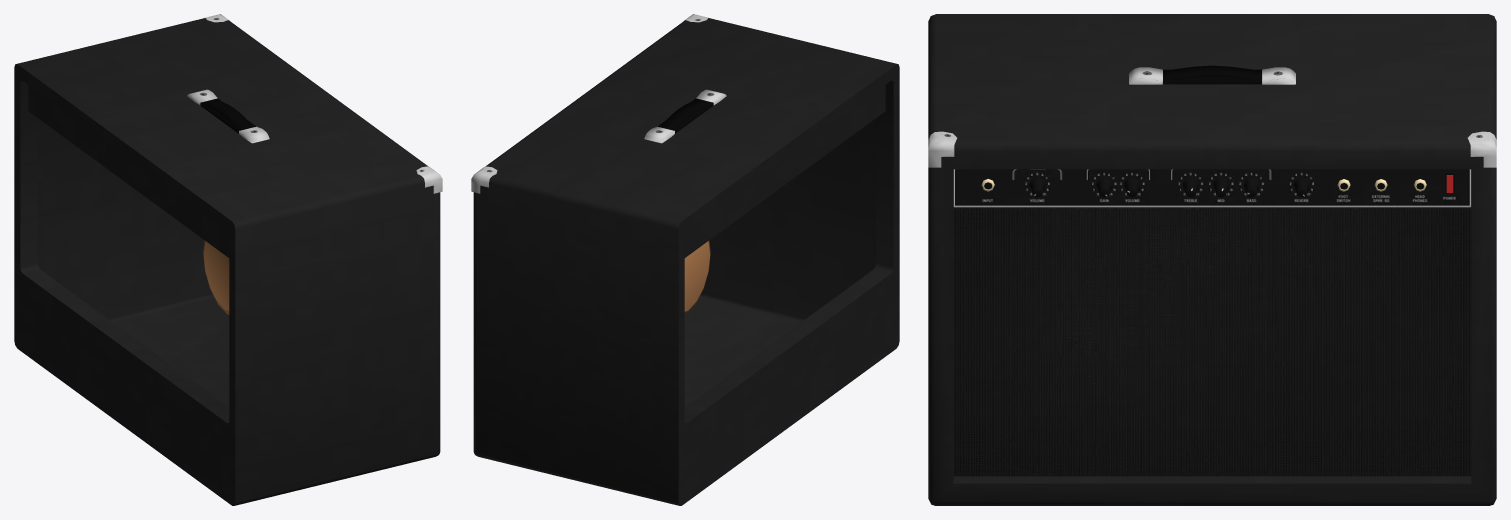
The model's file is amp.glb.
3 renders of one model, left to right at view 1: azimuth 30°, elevation 25°; view 2: azimuth 150°, elevation 25°; view 3: azimuth 270°, elevation 25°, orthographic. The views are drawn at different scales.
Parts seen in each view (by area): view 1: Box_Box_0, Top_Top_0, Speaker_Speaker_0; view 2: Box_Box_0, Top_Top_0, Speaker_Speaker_0; view 3: Box_Box_0, Top_Top_0, Panel_Panel_0.
Boxes of the visible parts, x1,y1,x2,y2 form: Box_Box_0: (14, 18, 440, 505); Top_Top_0: (187, 14, 442, 193); Speaker_Speaker_0: (203, 240, 229, 314); Box_Box_0: (473, 18, 899, 505); Top_Top_0: (471, 14, 726, 193); Speaker_Speaker_0: (684, 240, 710, 314); Box_Box_0: (928, 14, 1496, 505); Top_Top_0: (928, 65, 1496, 167); Panel_Panel_0: (981, 172, 1454, 197).
Bounding box in the file's own units: 0.4172 × 0.5584 × 0.7681.
4 materials, 4 textured.
